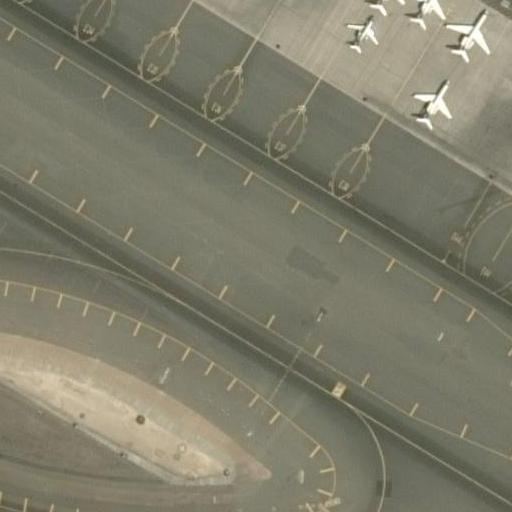Aircraft: (444, 7, 494, 63), (408, 78, 454, 128), (400, 0, 448, 31), (344, 13, 378, 56), (358, 0, 406, 10)
